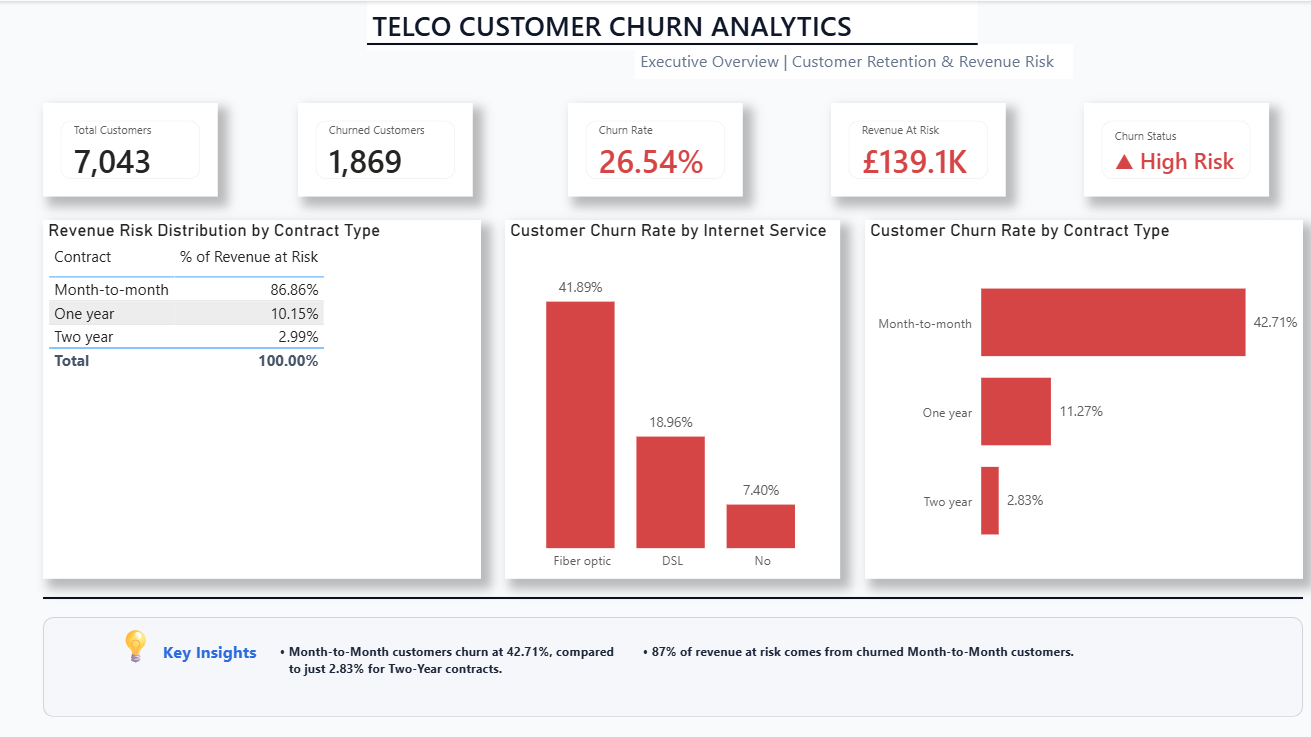

The dashboard page shown, as its layout file describes it:
{"tool":"powerbi","page":{"name":"Executive Overview","canvas":[1280,720],"ordinal":0},"visuals":[{"type":"textbox","box":[358.9,0,594.3,47.7],"z":0},{"type":"textbox","box":[619.6,41.8,426,34],"z":1000},{"type":"cardVisual","fields":{"Data":["Measures (2).Total Customers Display"]},"box":[43.8,99.2,170.2,91.4],"z":2000},{"type":"cardVisual","fields":{"Data":["Measures (2).Churned Customers Display"]},"box":[291.8,99.2,170.2,91.4],"z":3000},{"type":"cardVisual","fields":{"Data":["Measures (2).Revenue At Risk"]},"box":[810.2,99.2,170.2,91.4],"z":4000},{"type":"cardVisual","fields":{"Data":["Measures (2).Churn Rate"]},"box":[554.4,99.2,170.2,91.4],"z":5000},{"type":"shape","box":[358.9,24.3,594.3,35],"z":6000},{"type":"clusteredBarChart","title":"Customer Churn Rate by Contract Type","fields":{"Category":["telco_customers.Contract"],"Y":["Measures (2).Contract Churn Rate"]},"box":[843.3,213,426,349.2],"z":7000},{"type":"clusteredColumnChart","title":"Customer Churn Rate by Internet Service","fields":{"Category":["telco_customers.InternetService"],"Y":["Measures (2).Internet Service Churn Rate"]},"box":[493.1,213,325.8,349.2],"z":8000},{"type":"cardVisual","fields":{"Data":["Measures (2).Churn Status 2"]},"box":[1056.3,99.2,179.9,91.4],"z":9000},{"type":"tableEx","title":"Revenue Risk Distribution by Contract Type","fields":{"Values":["telco_customers.Contract","Divide(Measures (2).Pct Revenue At Risk by Contract, ScopedEval(Measures (2).Pct Revenue At Risk by Contract, []))"]},"box":[43.8,213,426,349.2],"z":10000},{"type":"shape","box":[43.8,570.9,1225.5,19.5],"z":11000},{"type":"shape","box":[43.8,599.1,1225.5,97.3],"z":12000},{"type":"textbox","box":[259.7,599.1,353.1,97.3],"z":13000},{"type":"textbox","box":[612.8,599.1,534,97.3],"z":14000},{"type":"textbox","box":[107,599.1,152.7,97.3],"z":15000}]}

Visuals, with their boxes in screenshot pixels (x1, y1, x2, y2), scaled from the page's 1280x720 canvas onto the 1311x737 screenshot:
textbox: x1=368 y1=0 x2=976 y2=49
textbox: x1=635 y1=43 x2=1071 y2=78
cardVisual - Measures (2).Total Customers Display: x1=45 y1=102 x2=219 y2=195
cardVisual - Measures (2).Churned Customers Display: x1=299 y1=102 x2=473 y2=195
cardVisual - Measures (2).Revenue At Risk: x1=830 y1=102 x2=1004 y2=195
cardVisual - Measures (2).Churn Rate: x1=568 y1=102 x2=742 y2=195
shape: x1=368 y1=25 x2=976 y2=61
"Customer Churn Rate by Contract Type" clusteredBarChart: x1=864 y1=218 x2=1300 y2=575
"Customer Churn Rate by Internet Service" clusteredColumnChart: x1=505 y1=218 x2=839 y2=575
cardVisual - Measures (2).Churn Status 2: x1=1082 y1=102 x2=1266 y2=195
"Revenue Risk Distribution by Contract Type" tableEx: x1=45 y1=218 x2=481 y2=575
shape: x1=45 y1=584 x2=1300 y2=604
shape: x1=45 y1=613 x2=1300 y2=713
textbox: x1=266 y1=613 x2=628 y2=713
textbox: x1=628 y1=613 x2=1175 y2=713
textbox: x1=110 y1=613 x2=266 y2=713
